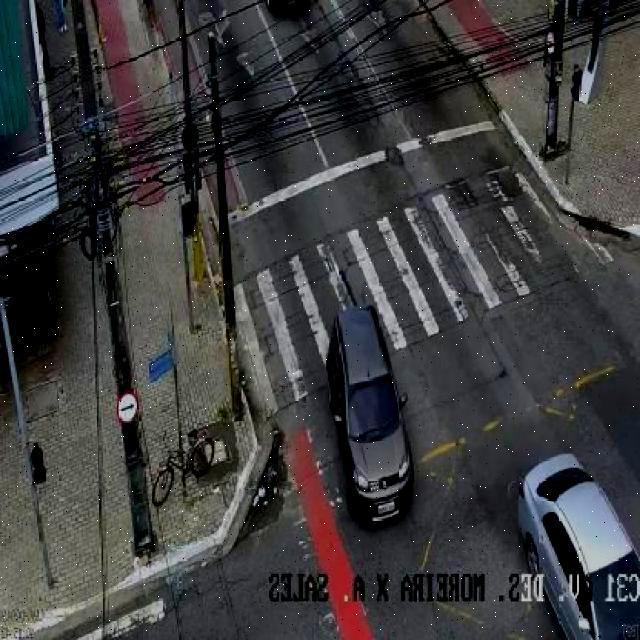bicycle: (151, 426, 214, 506)
car: (518, 454, 640, 640), (326, 281, 414, 527)
road-signs: (118, 392, 138, 422)
traffic-lights: (30, 442, 46, 484), (570, 64, 582, 101)
